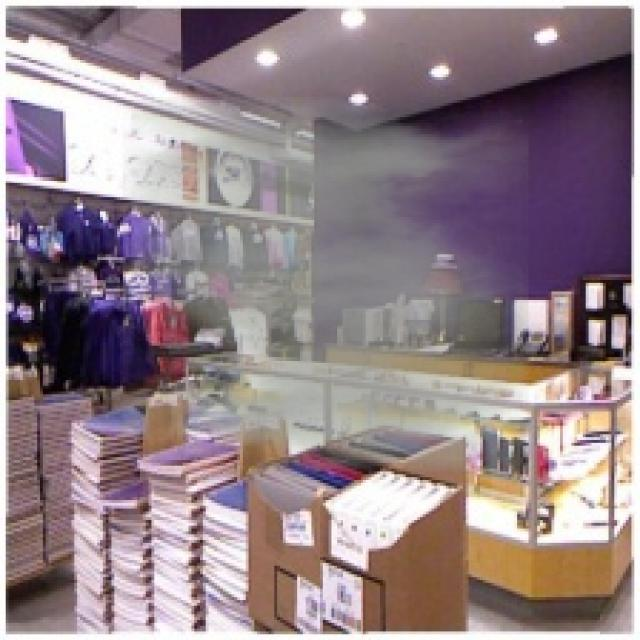smoke: (123, 97, 528, 472)
